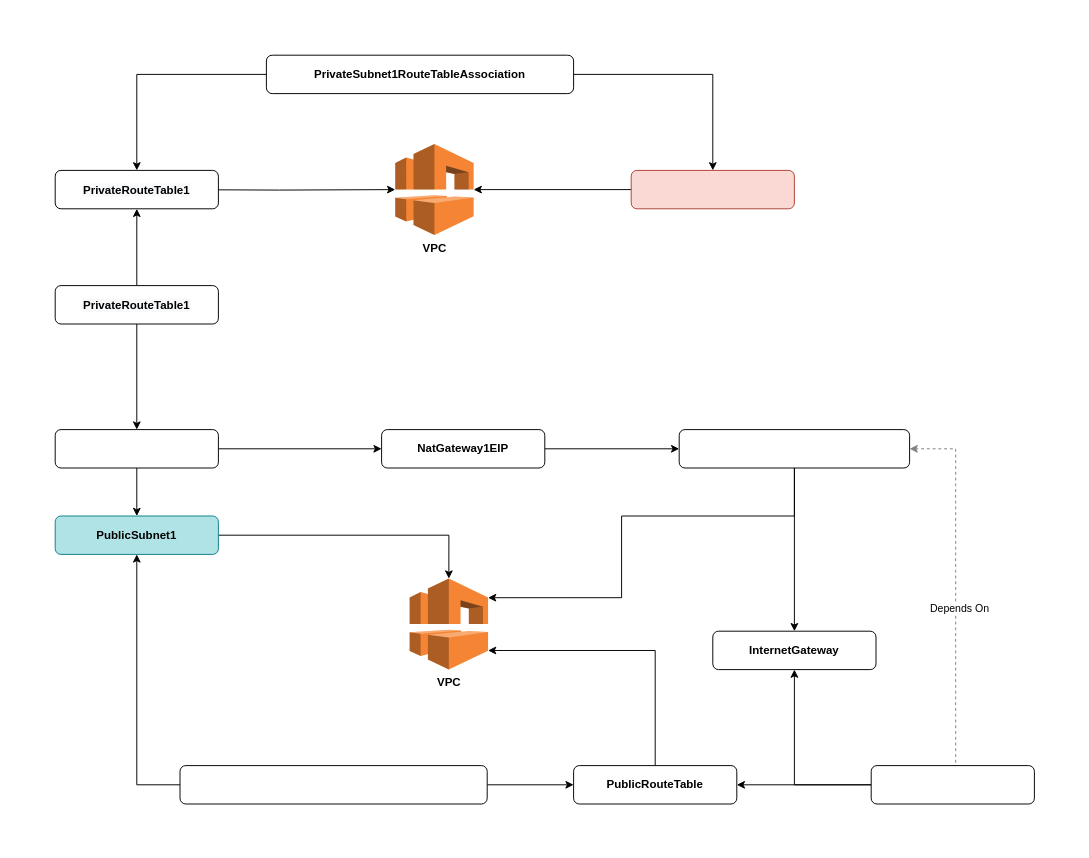
Some shapes in this 1089 by 858 pixel diagram are drawn without their labels. The shapes that lost their labels are listed below. From the top down, each one's centre as x and y in pixels, then its label:
At [712,189]: "PrivateSubnet1".
At [136,448]: "NatGateway1".
At [794,448]: "InternetGatewayAttachment".
At [333,784]: "PublicSubnet1RouteTableAssociation".
At [952,784]: "DefaultPublicRoute".
